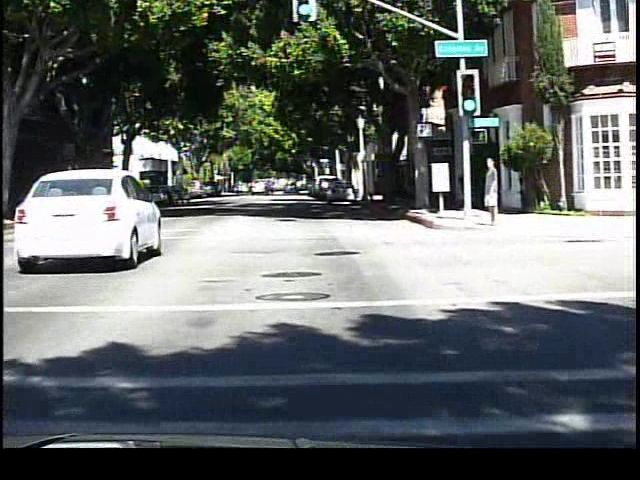person: (479, 155, 503, 227)
